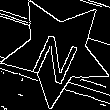N_NE: (29, 20, 85, 83)
